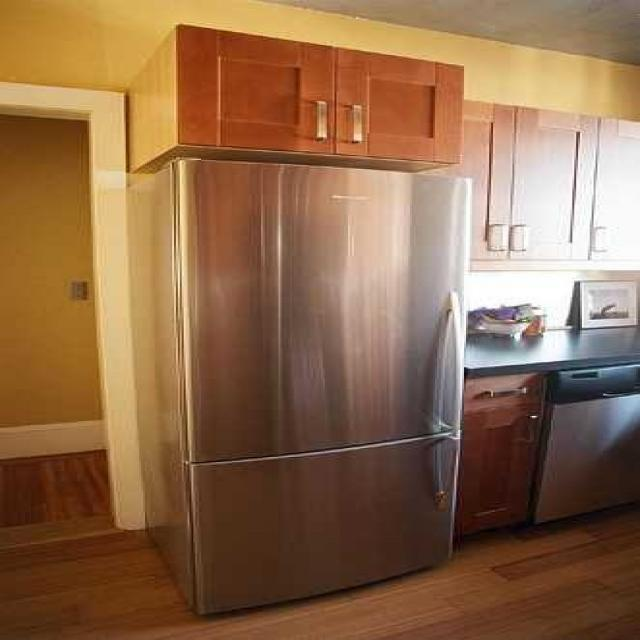refrigerator: (141, 165, 468, 614)
